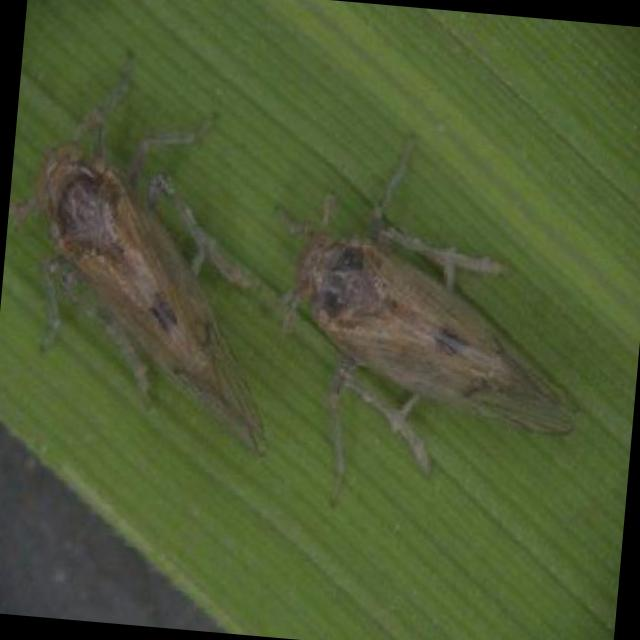brown-planthopper: (260, 178, 598, 466), (0, 83, 265, 414)
